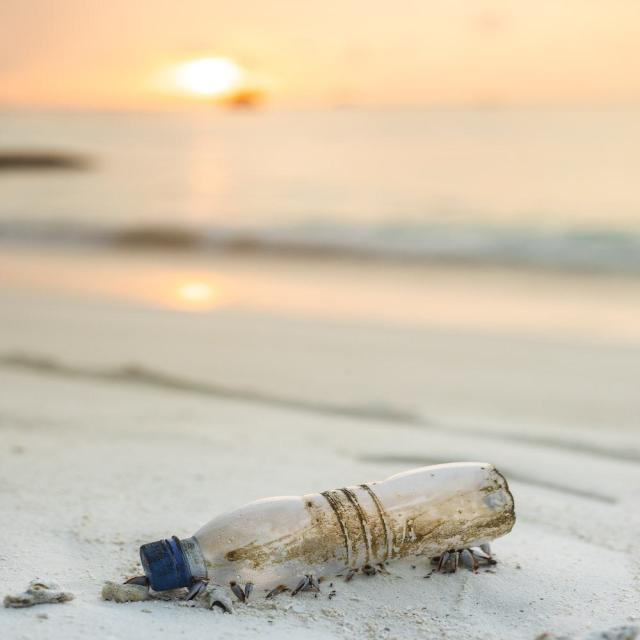plastic: (116, 480, 557, 617)
